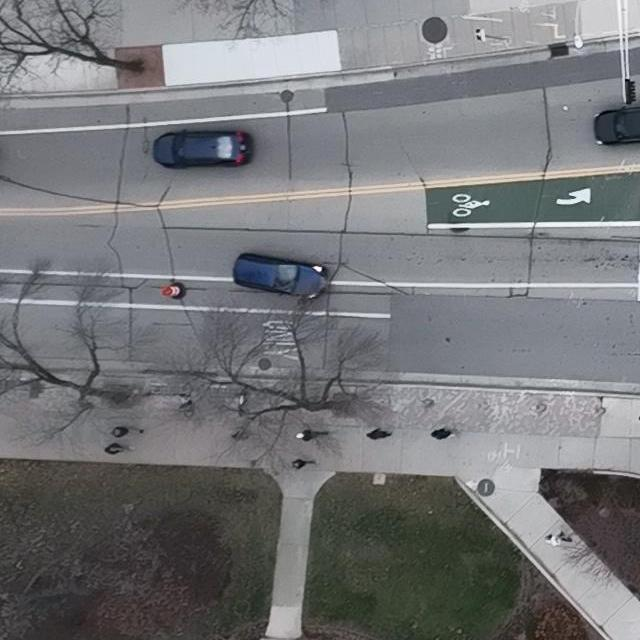car: (232, 253, 331, 302), (152, 126, 255, 168), (594, 106, 640, 145)
